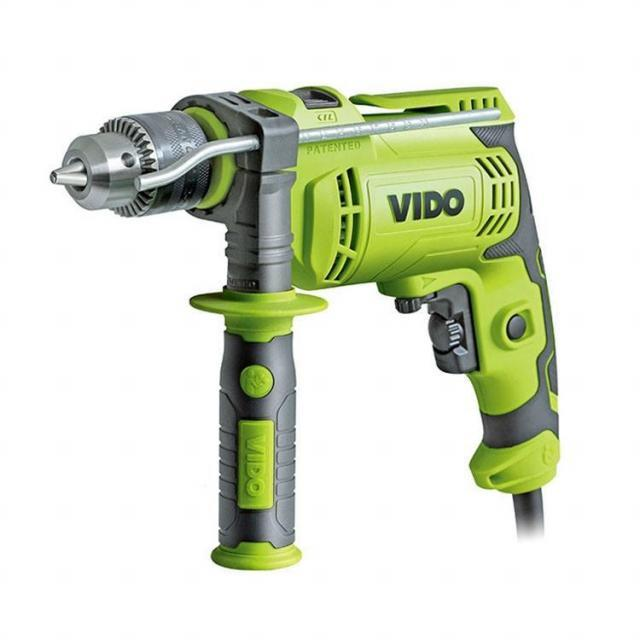drill: (48, 85, 562, 573)
